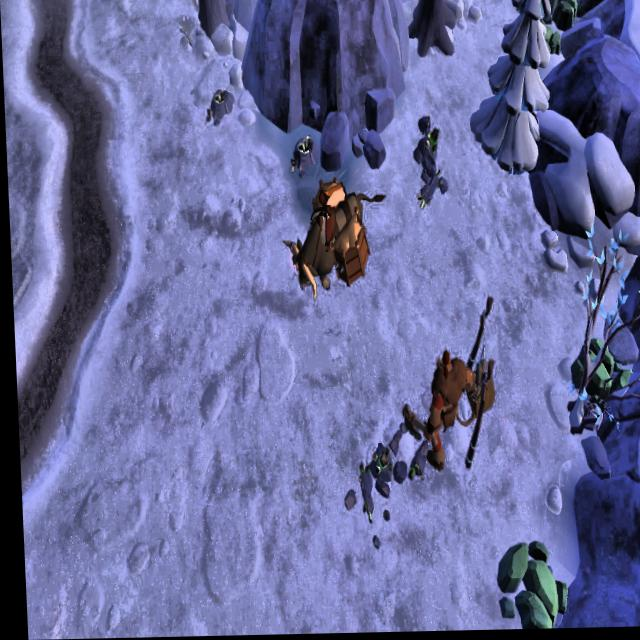enemy_factionKeeper: (396, 351, 476, 473)
rock_t3: (487, 538, 563, 632), (565, 324, 627, 413), (540, 0, 579, 43), (533, 24, 565, 61)
